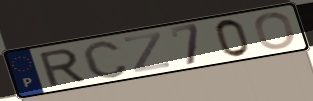0: (215, 17, 252, 59)
7: (168, 21, 202, 67)
C: (80, 39, 131, 80)
O: (253, 11, 297, 51)
R: (36, 47, 88, 88)
Z: (122, 30, 173, 75)
